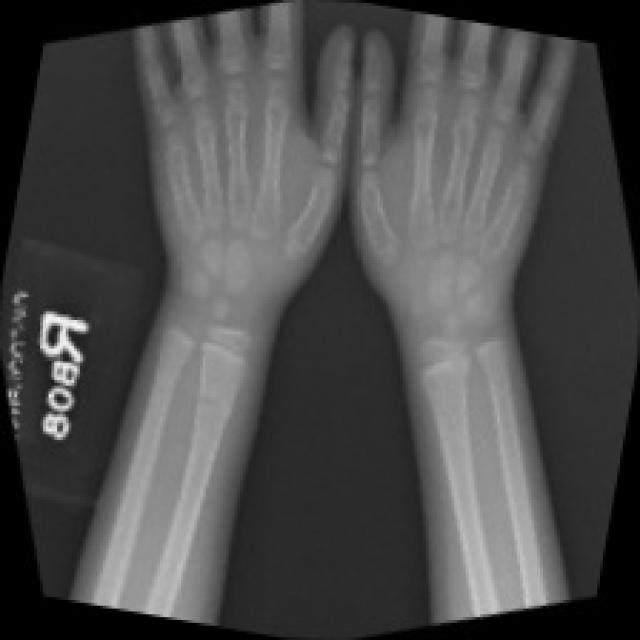fracture: (182, 372, 246, 447)
